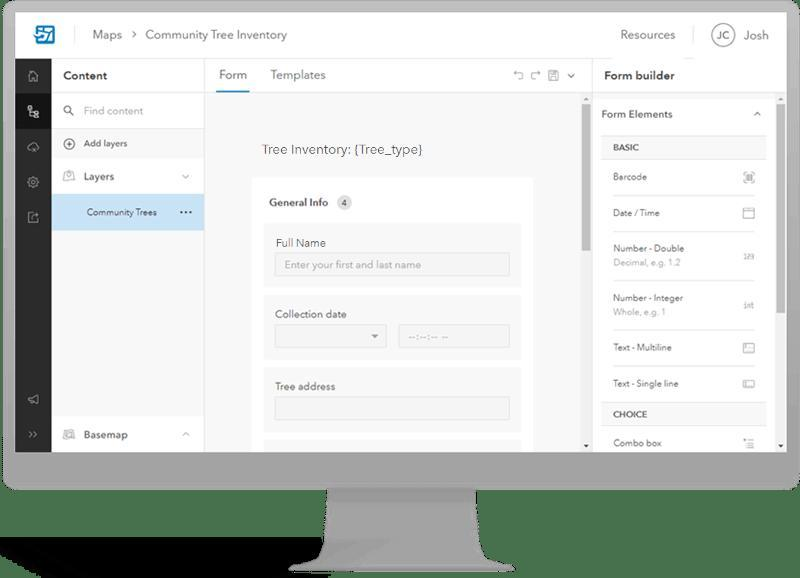button: (52, 60, 205, 95), (53, 94, 204, 129), (54, 196, 205, 231), (52, 127, 204, 160)
dropdown: (592, 99, 777, 137), (52, 160, 205, 195), (55, 422, 204, 453), (276, 326, 389, 349)
icon: (27, 20, 63, 49), (709, 21, 739, 51), (738, 202, 763, 225), (737, 169, 763, 188), (738, 436, 762, 453), (26, 66, 44, 85), (26, 104, 45, 121), (740, 379, 761, 394), (510, 68, 528, 85), (741, 342, 760, 358), (27, 208, 43, 226), (547, 68, 563, 86), (26, 140, 43, 156), (27, 174, 43, 191), (27, 392, 43, 408), (566, 69, 581, 85), (26, 428, 43, 442), (529, 69, 543, 85)
input: (274, 396, 512, 425), (276, 254, 511, 278), (399, 327, 510, 349)
label: (262, 139, 425, 162), (605, 68, 681, 86), (610, 292, 690, 308), (616, 26, 683, 44), (614, 377, 683, 394), (274, 307, 351, 322), (268, 193, 331, 211), (614, 243, 689, 257), (275, 380, 343, 395), (615, 340, 677, 356), (611, 435, 668, 452), (611, 205, 664, 223), (613, 169, 656, 188), (275, 236, 329, 251), (611, 140, 645, 156), (613, 408, 652, 421), (743, 28, 771, 45)
